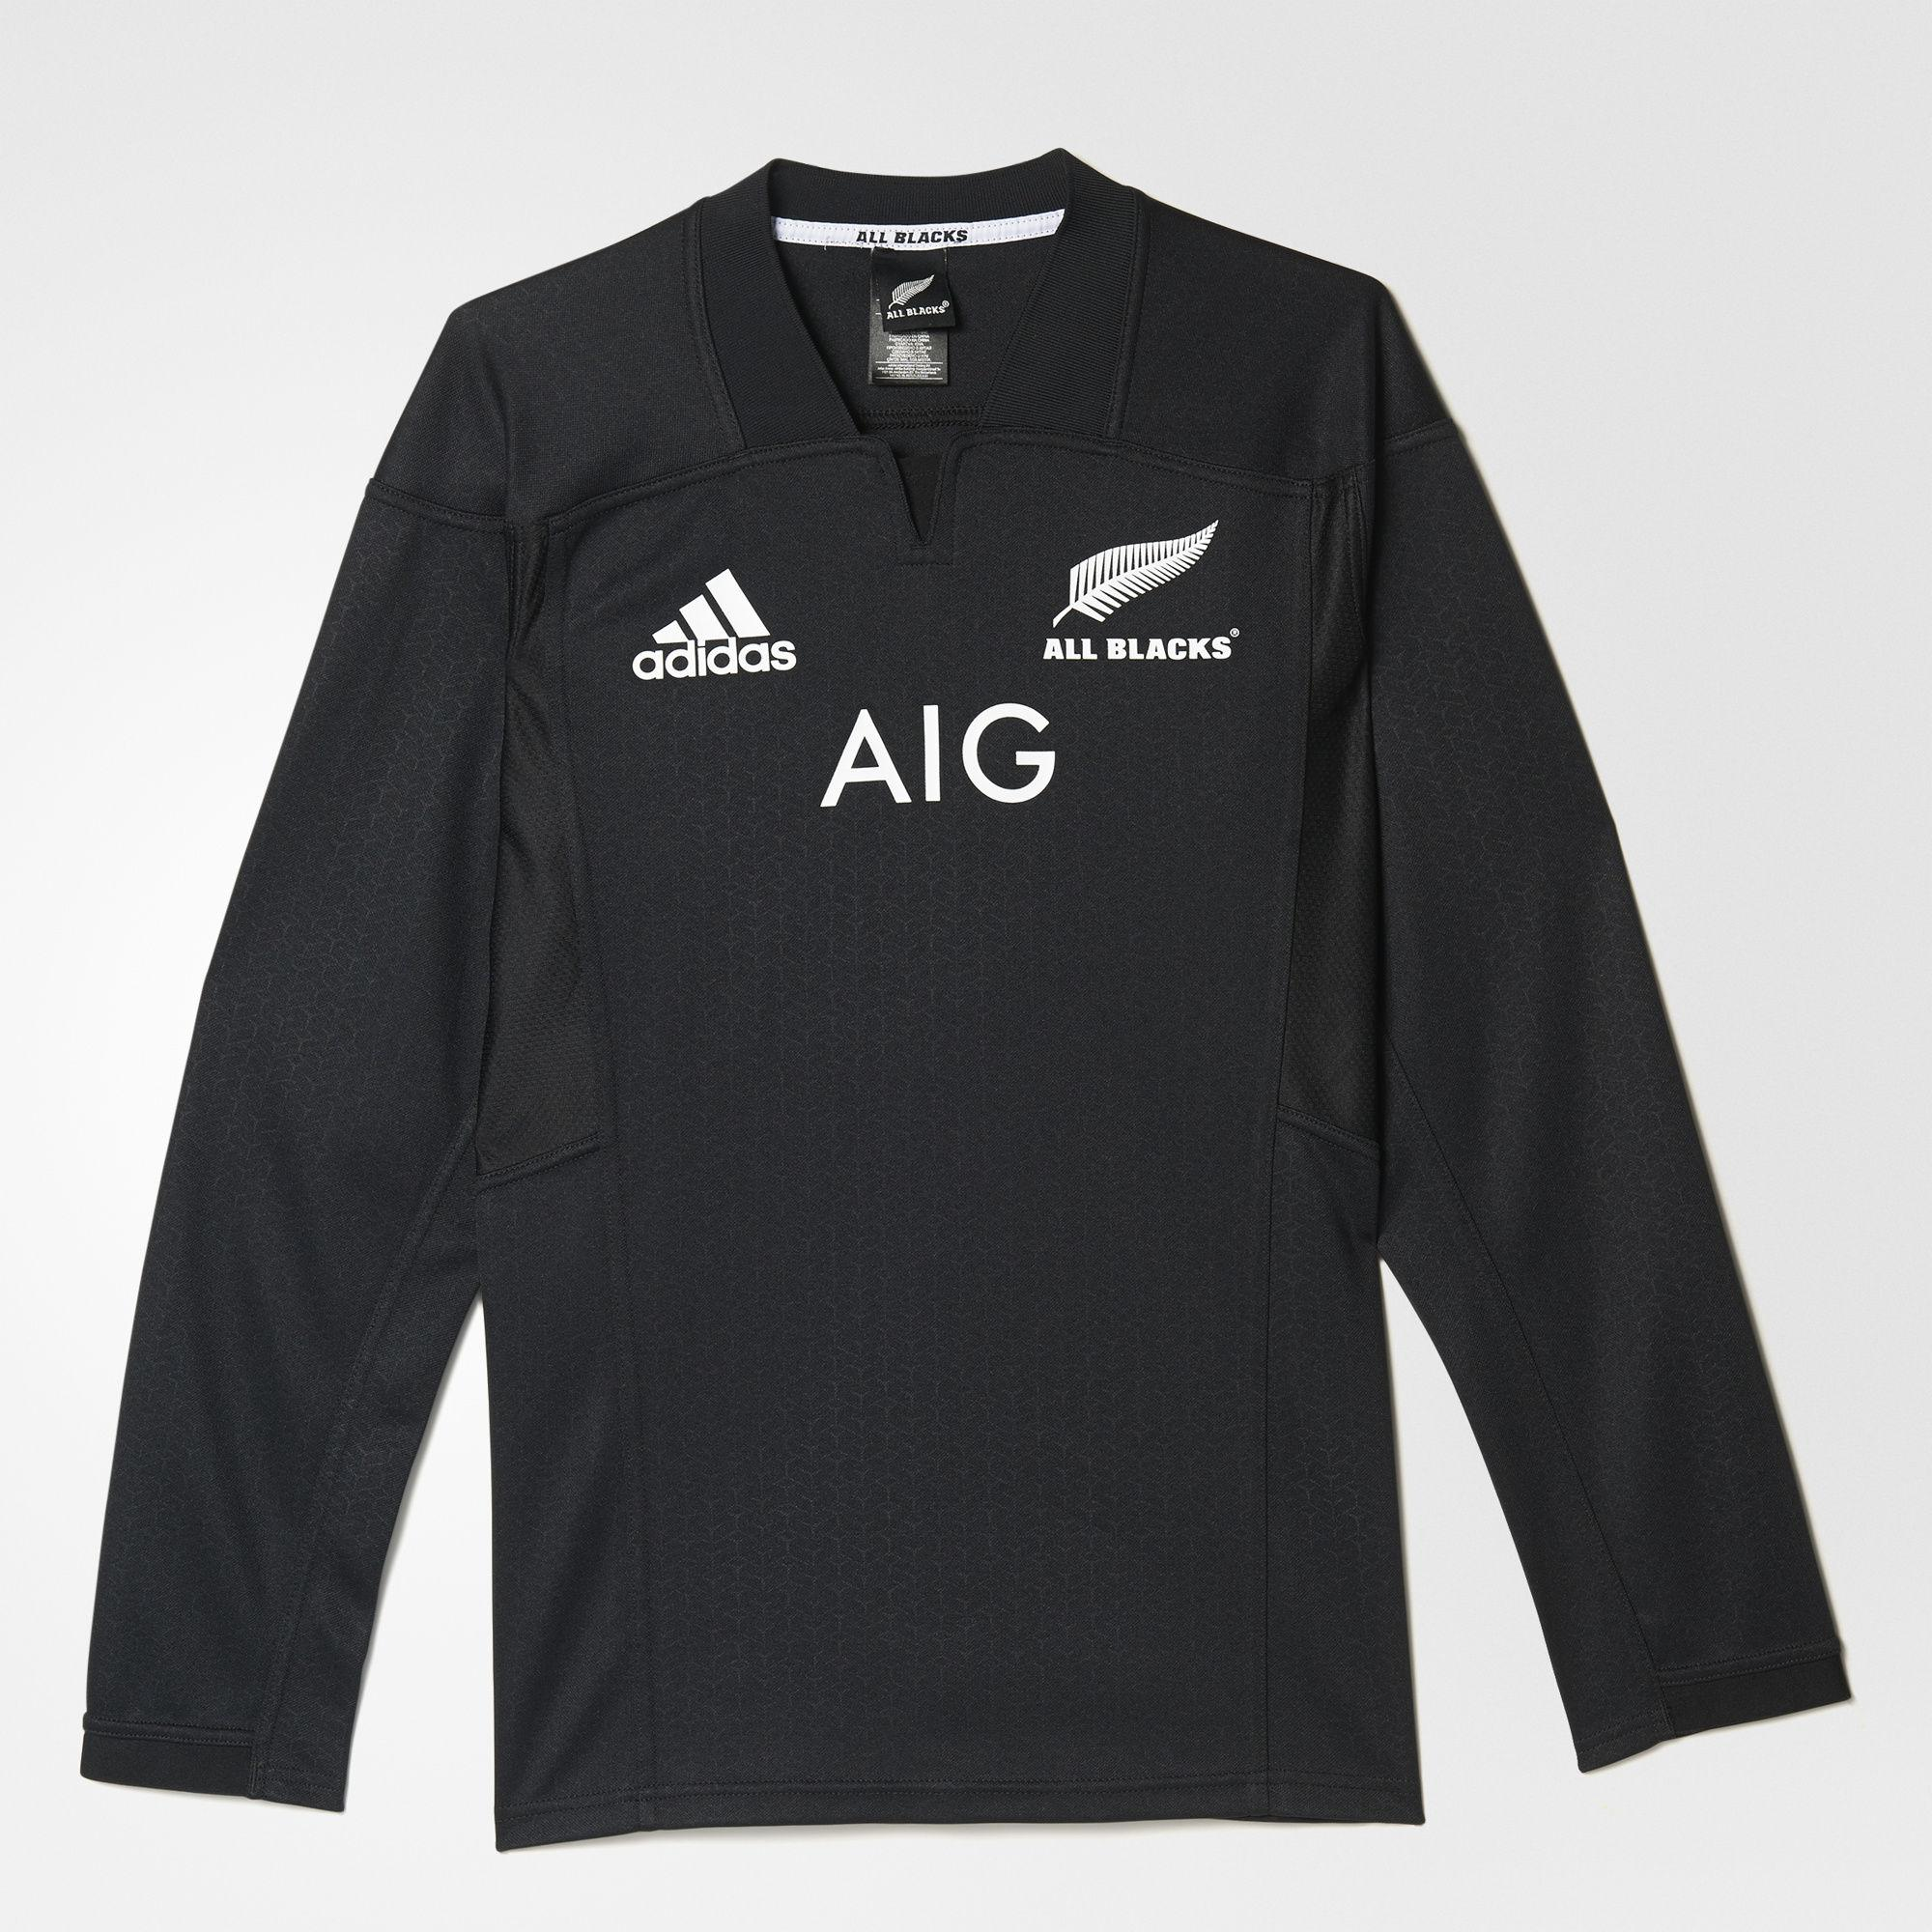teeshirt: (46, 161, 1863, 1897)
